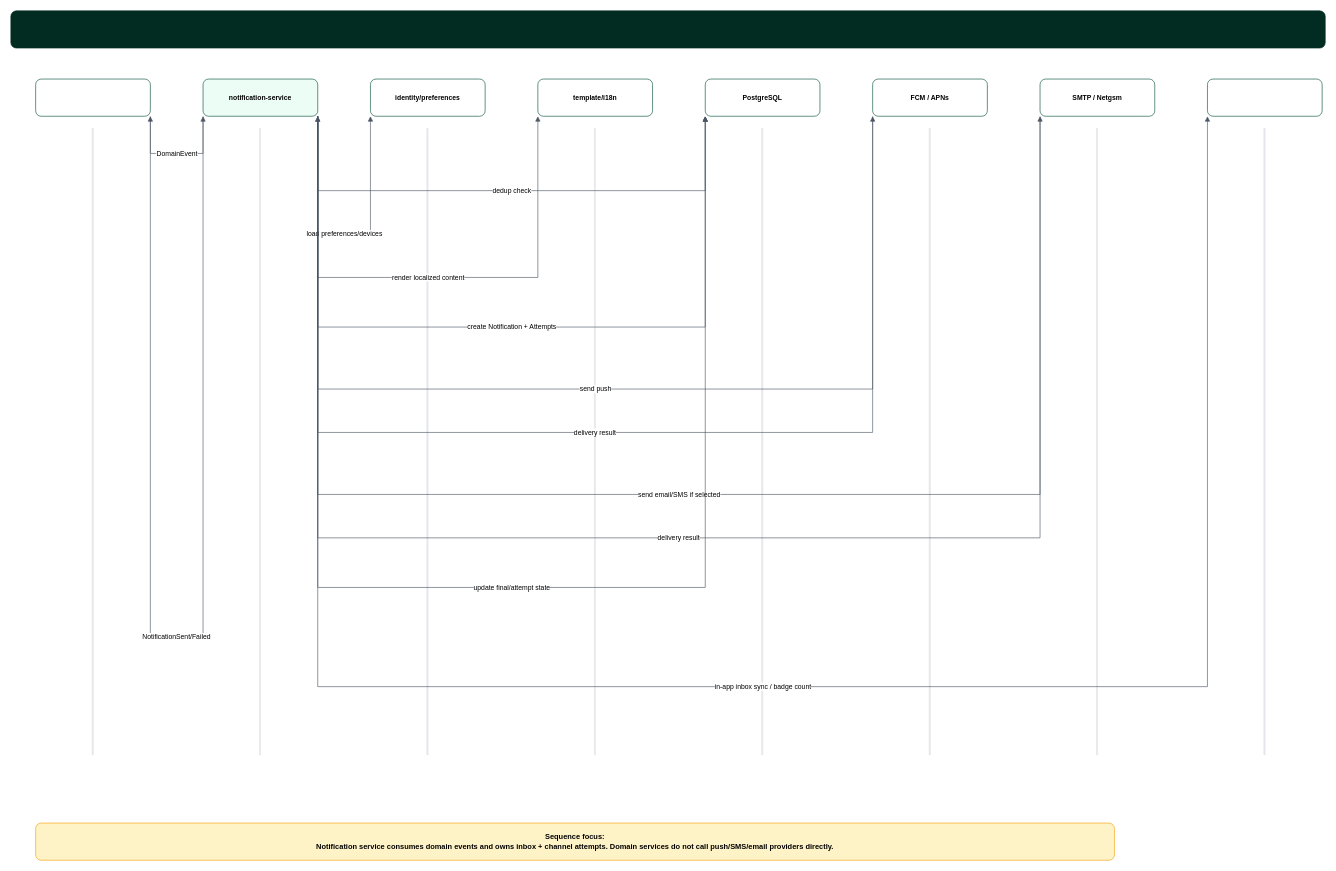
This 1336x871 diagram has some shape labels left out. The centre of each missing label's shape, as x and y in pixels:
Client: pixel 1264 97
Kafka / Event Bus: pixel 92 97
Viaverse Notification / Delivery — Sequence Diagram: pixel 667 29
